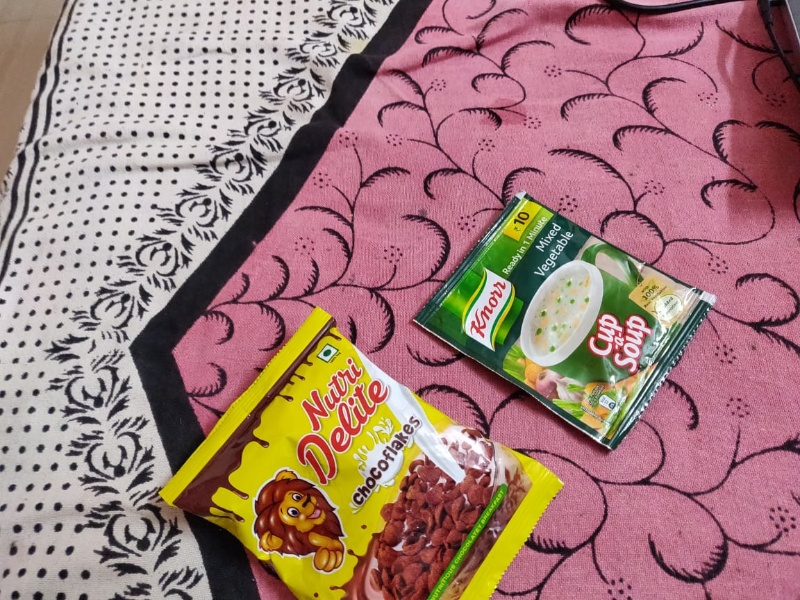Knorr_Cup_Soup: (420, 197, 716, 441)
nutriDelite: (138, 310, 566, 600)
